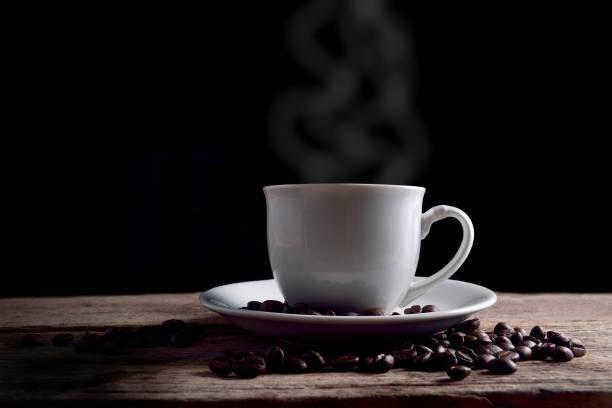cup-handle: (262, 180, 475, 317)
